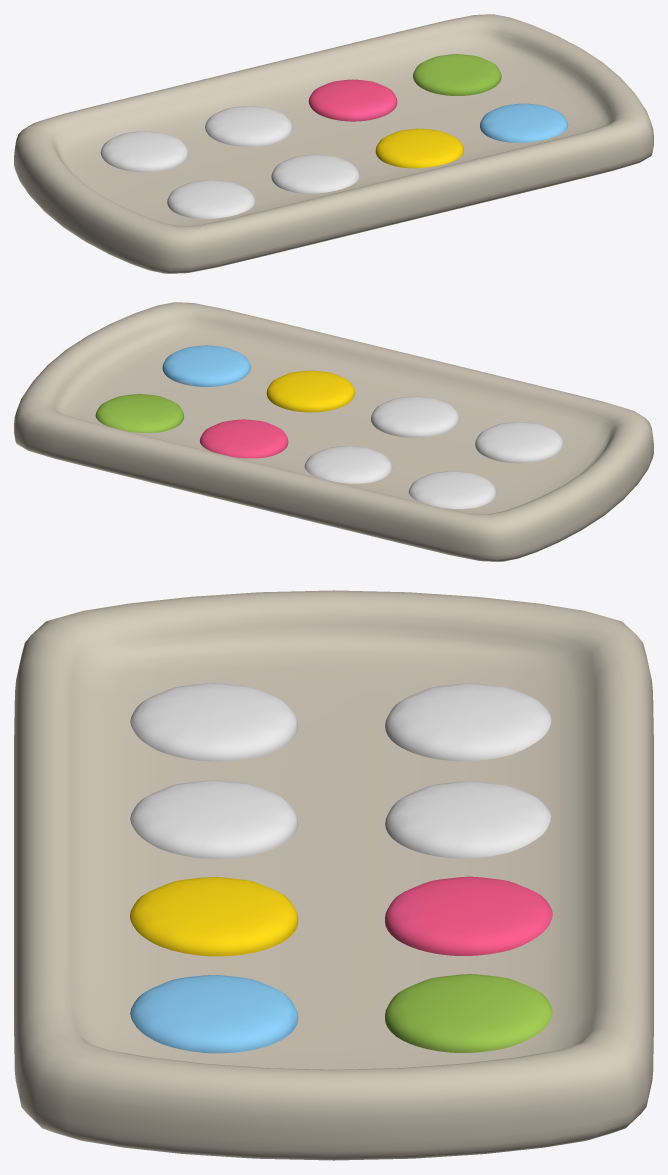
Rendered from colorpicker.glb.
The picture shows the model from 3 angles, top to bottom: view 1: azimuth 30°, elevation 25°; view 2: azimuth 150°, elevation 25°; view 3: azimuth 270°, elevation 25°; orthographic projection. The views are drawn at different scales.
Parts seen in each view (by area): view 1: Cube; view 2: Cube; view 3: Cube.
Boxes of the visible parts, x1,y1,x2,y2 form: Cube: [14, 14, 653, 273]; Cube: [14, 302, 653, 561]; Cube: [14, 590, 653, 1160].
Size of the model in its own units: 0.8606 by 0.0627 by 0.4563.
Materials: 5 (1 with a texture image).
